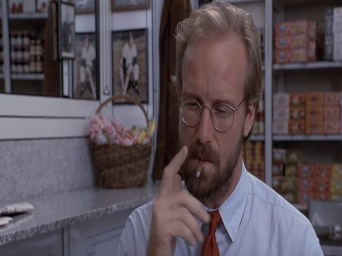smoke: (195, 157, 204, 177)
